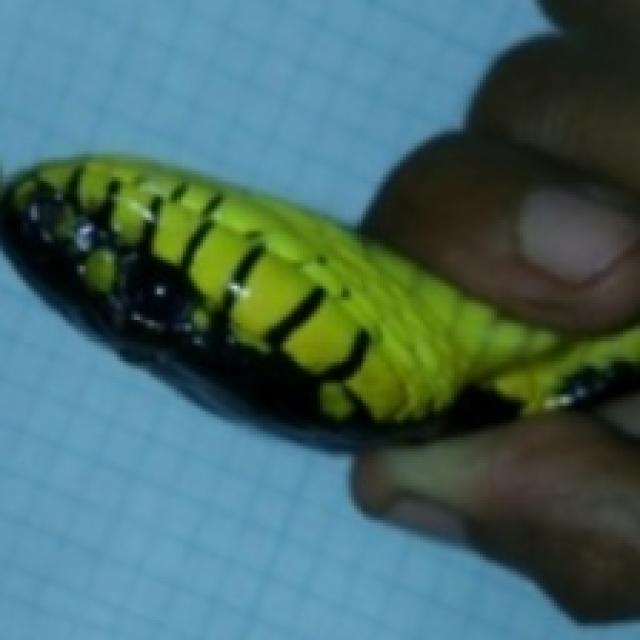mangrove cat snake: (2, 159, 640, 447)
